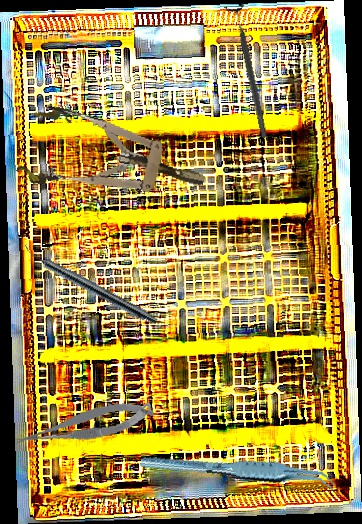Fixation Ring: (223, 2, 275, 141)
Handpiece: (19, 243, 161, 327)
Micro Scissor: (11, 398, 157, 450)
Speculum: (14, 101, 213, 221)
Tissue Forceps: (139, 433, 338, 509)
